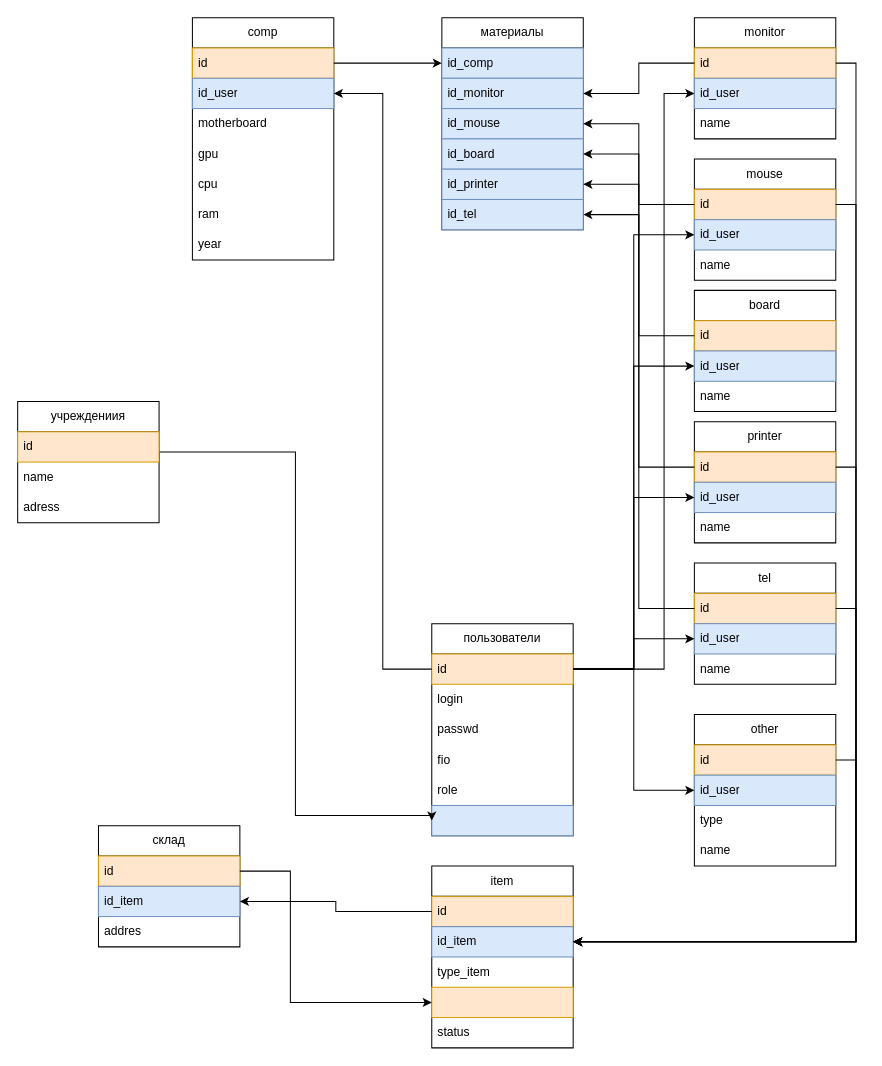
The diagram is 882 pixels wide and 1066 high, and some of its shapes have lost their labels. The centre of each missing label's shape, as x and y in pixels:
"id_stock" goes at point (502, 1002).
"ofiice" goes at point (502, 820).
